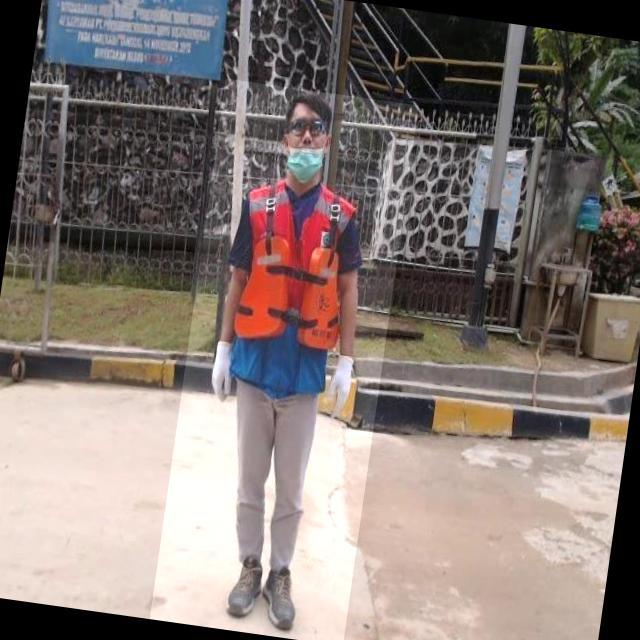Human: (149, 78, 418, 640)
Safety Boot: (257, 562, 304, 635), (224, 553, 268, 623)
Safety Vest: (221, 174, 359, 403)
